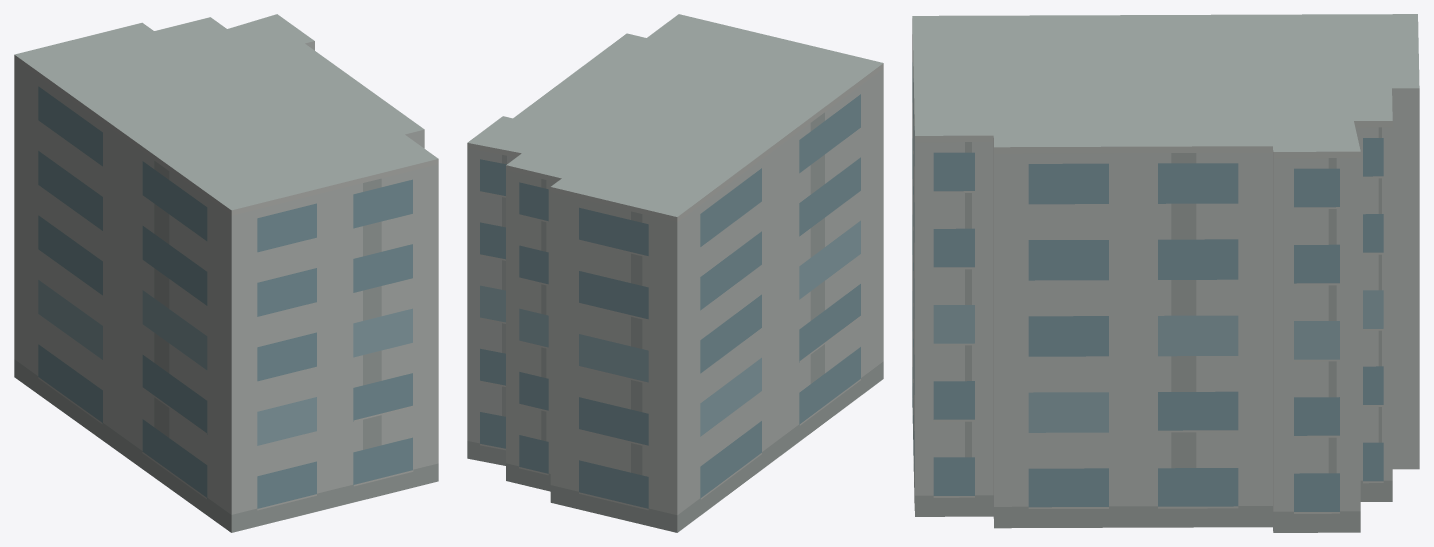
Rendered from survey-upis-32724981.glb.
The picture shows the model from 3 angles, left to right: view 1: azimuth 30°, elevation 25°; view 2: azimuth 150°, elevation 25°; view 3: azimuth 270°, elevation 25°; orthographic projection. The views are drawn at different scales.
Visible parts, largest first — view 1: survey-upis-32724981.tmp; view 2: survey-upis-32724981.tmp; view 3: survey-upis-32724981.tmp.
Boxes of the visible parts, x1=… form: survey-upis-32724981.tmp: x1=14, y1=14, x2=438, y2=532; survey-upis-32724981.tmp: x1=467, y1=14, x2=883, y2=532; survey-upis-32724981.tmp: x1=912, y1=14, x2=1419, y2=532.
Bounding box in the file's own units: 11.27 × 14.5 × 17.51.
